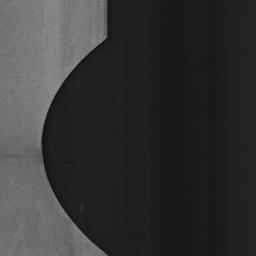Crescent gap: (41, 38, 107, 255)
